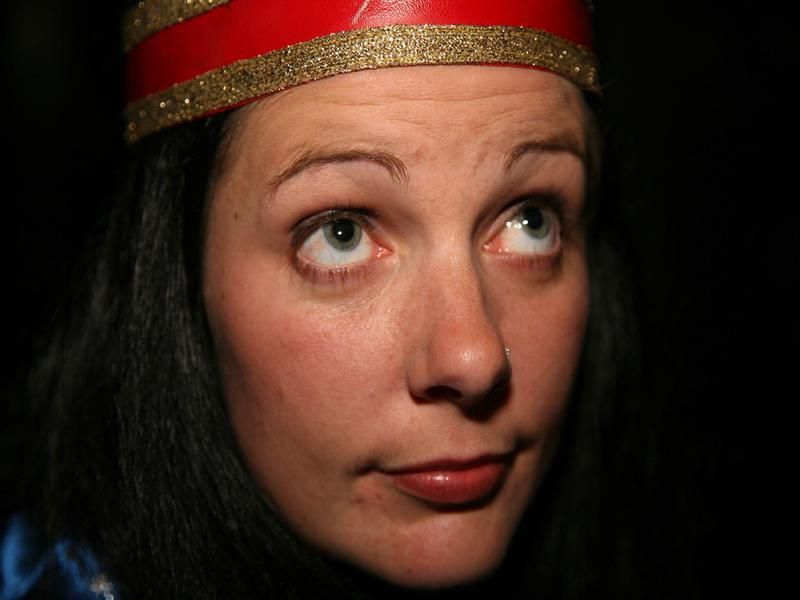person: (9, 1, 617, 587)
